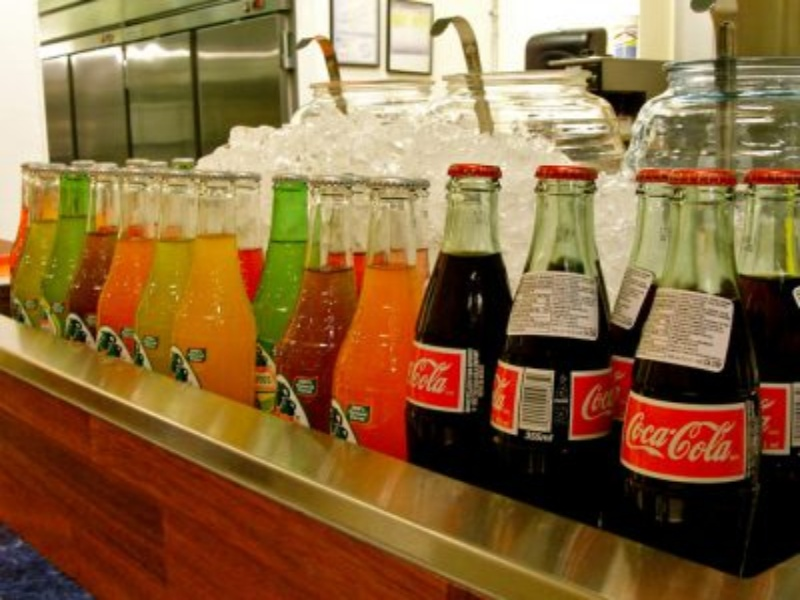Glass bottle: (612, 128, 769, 565), (504, 145, 638, 582), (402, 124, 519, 499), (345, 145, 432, 475), (120, 148, 217, 403), (274, 165, 359, 437), (164, 150, 256, 393), (576, 131, 668, 372), (228, 154, 318, 363)
